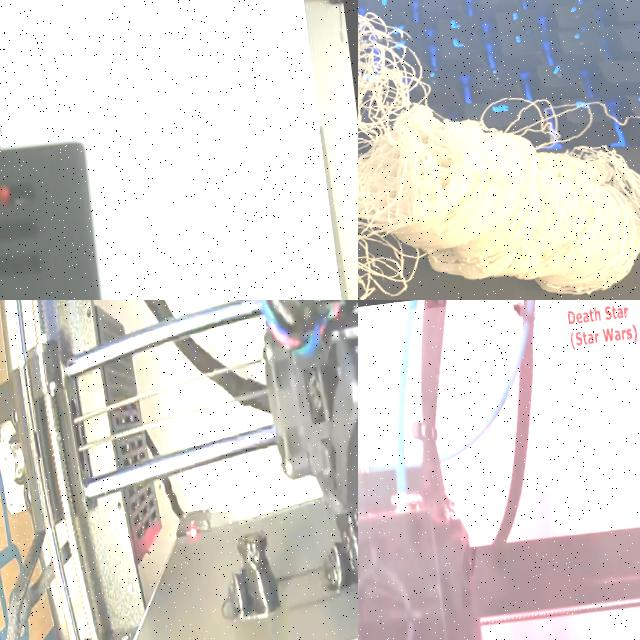spaghetti: (358, 0, 640, 300)
